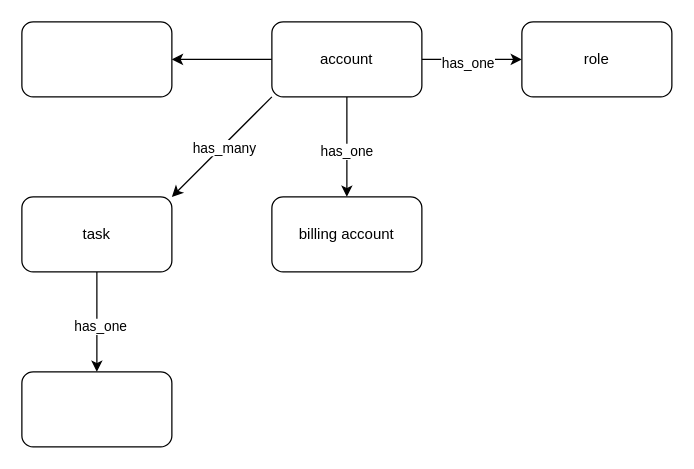
Image size: 694x469. Some labels were removed from this diagram. The shapes that lost their labels are listed below. From the top down, each one's centre as x and y in pixels, then its label:
the point at 96,59: auth
the point at 96,409: status
